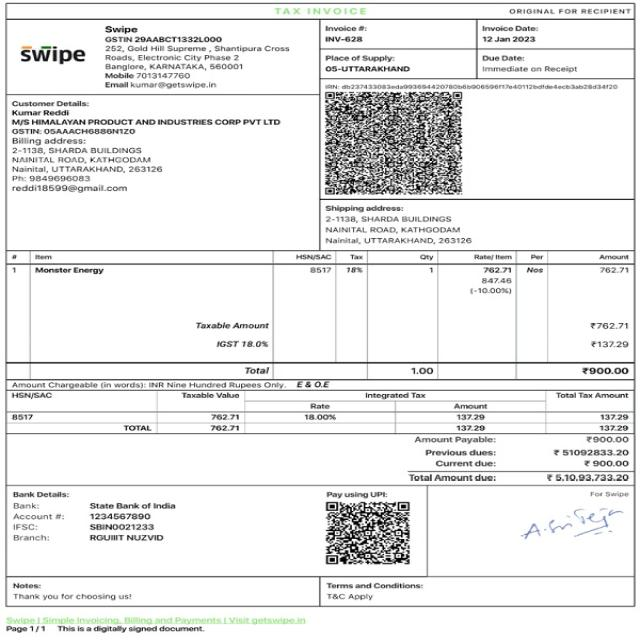QRCode: (322, 90, 466, 197), (324, 500, 412, 567)
